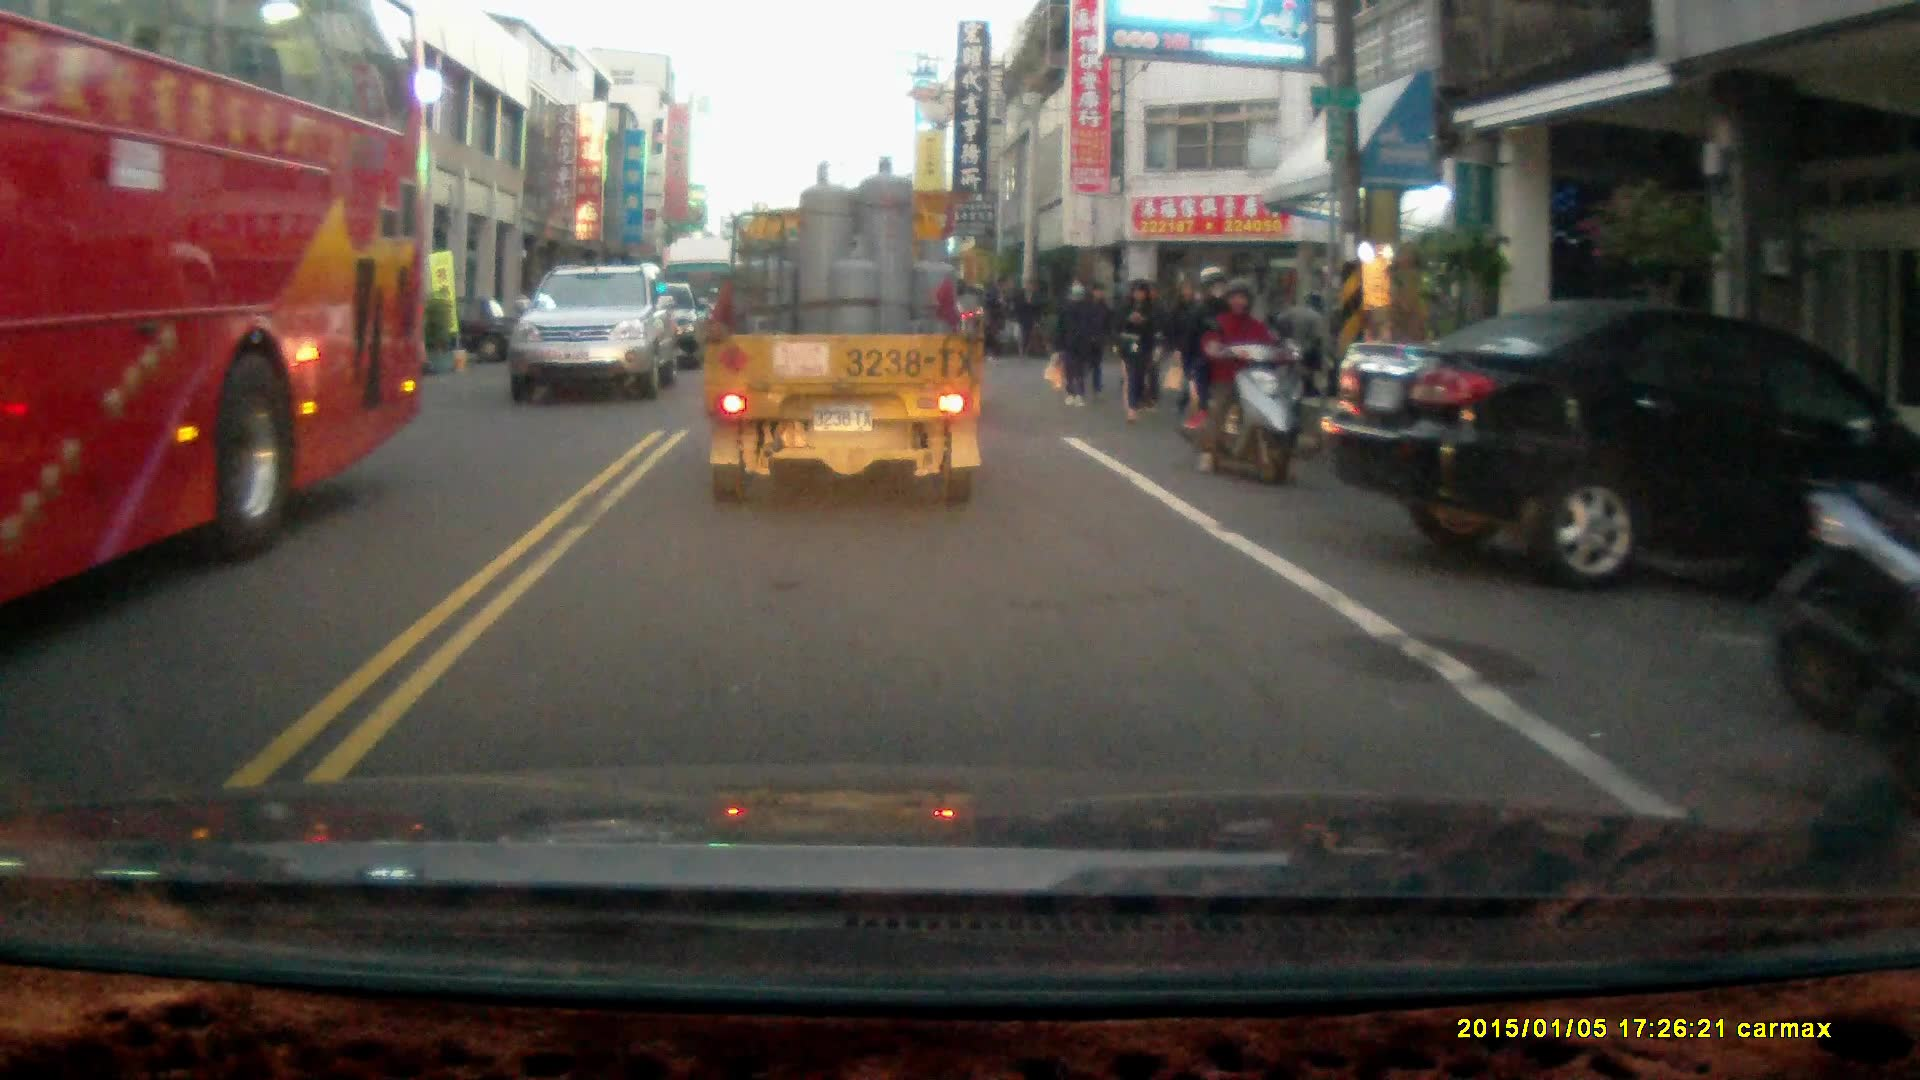pedestrian: (1162, 279, 1211, 418), (1120, 270, 1162, 418), (1051, 274, 1097, 406), (1074, 281, 1112, 398), (1011, 274, 1042, 360), (985, 275, 1014, 360)
rider: (1173, 263, 1287, 480)
vehicle: (1, 7, 427, 603), (1328, 302, 1920, 593), (705, 155, 991, 507), (505, 265, 680, 409)
